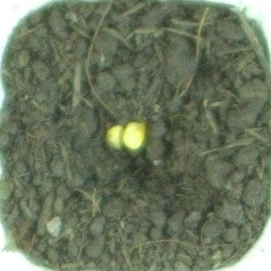chilli seed: (122, 120, 147, 151), (105, 124, 127, 150)
